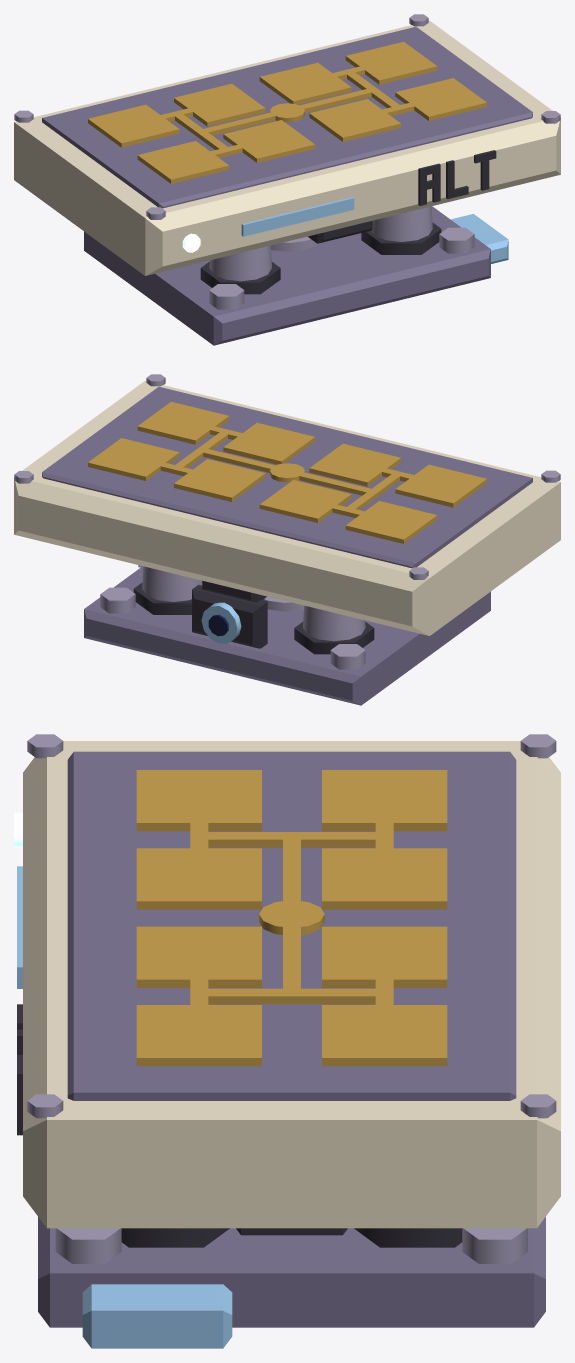
The model's file is radar_altimeter.glb.
3 views of the same model, one above another, from view 1: azimuth 30°, elevation 25°; view 2: azimuth 150°, elevation 25°; view 3: azimuth 270°, elevation 25° (orthographic). The views are drawn at different scales.
Parts seen in each view (by area): view 1: slab_creamHull, slab_purpleGrey, slab_gold, plate_purpleGrey, mount_purpleGreyLight_mesh, slab_graphite, mount_graphite_mesh, plate_purpleGreyLight, slab_paleBlue, plate_paleBlue, slab_purpleGreyLight; view 2: slab_creamHull, slab_purpleGrey, slab_gold, plate_purpleGrey, mount_graphite_mesh, mount_purpleGreyLight_mesh, plate_purpleGreyLight, mount_paleBlue_mesh, slab_purpleGreyLight, slab_graphite; view 3: slab_creamHull, slab_purpleGrey, slab_gold, plate_purpleGrey, plate_paleBlue, plate_purpleGreyLight, mount_graphite_mesh, slab_purpleGreyLight, slab_graphite.
Boxes of the visible parts, <box> form: slab_creamHull: <box>14,20,560,275</box>; slab_purpleGrey: <box>42,26,532,208</box>; slab_gold: <box>88,41,486,183</box>; plate_purpleGrey: <box>84,206,490,345</box>; mount_purpleGreyLight_mesh: <box>209,206,432,281</box>; slab_graphite: <box>308,150,496,243</box>; mount_graphite_mesh: <box>200,222,441,294</box>; plate_purpleGreyLight: <box>209,227,474,309</box>; slab_paleBlue: <box>241,197,354,236</box>; plate_paleBlue: <box>451,214,508,263</box>; slab_purpleGreyLight: <box>14,14,560,219</box>; slab_creamHull: <box>14,380,560,635</box>; slab_purpleGrey: <box>42,386,532,568</box>; slab_gold: <box>88,401,486,543</box>; plate_purpleGrey: <box>84,566,490,705</box>; mount_graphite_mesh: <box>133,582,374,654</box>; mount_purpleGreyLight_mesh: <box>142,566,365,641</box>; plate_purpleGreyLight: <box>100,587,365,669</box>; mount_paleBlue_mesh: <box>201,602,241,643</box>; slab_purpleGreyLight: <box>14,374,560,579</box>; slab_graphite: <box>202,580,266,602</box>; slab_creamHull: <box>23,741,560,1228</box>; slab_purpleGrey: <box>67,751,516,1100</box>; slab_gold: <box>136,770,447,1066</box>; plate_purpleGrey: <box>38,1217,545,1327</box>; plate_paleBlue: <box>82,1284,232,1348</box>; plate_purpleGreyLight: <box>55,1228,527,1263</box>; mount_graphite_mesh: <box>121,1228,462,1247</box>; slab_purpleGreyLight: <box>27,734,556,1118</box>; slab_graphite: <box>17,1004,347,1235</box>.
Bounding box in the file's own units: 0.3 × 0.106 × 0.183.
